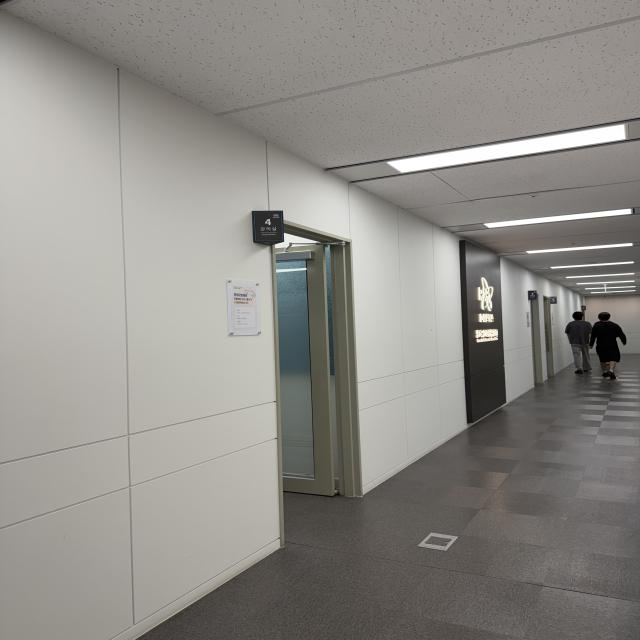sign: (252, 211, 283, 241)
